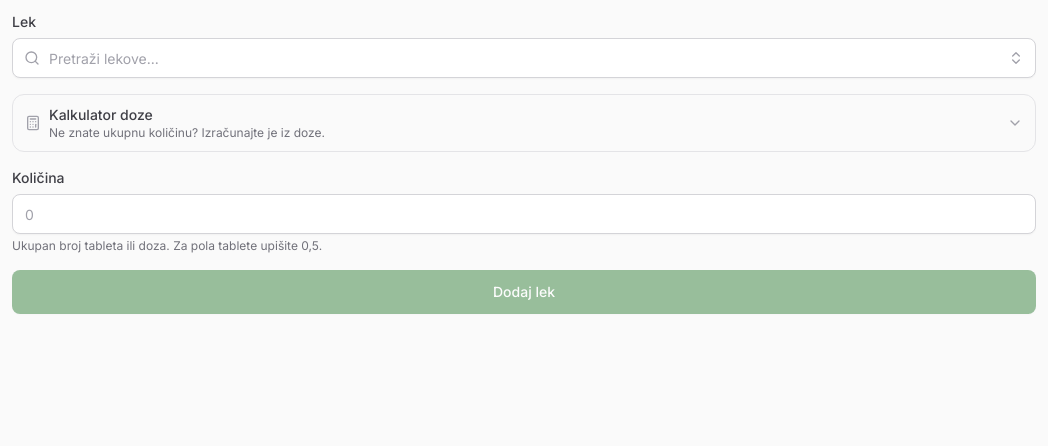
it: ConsumeItemForm › zapremina: 300 ml od boce od 1000 ml naplaćuje 0,3 komada
Later steps or results of the test are not shown.
Step 1. Click the dropdown labelled "Lek" → coordinates (524, 58), box [12, 38, 1036, 78]
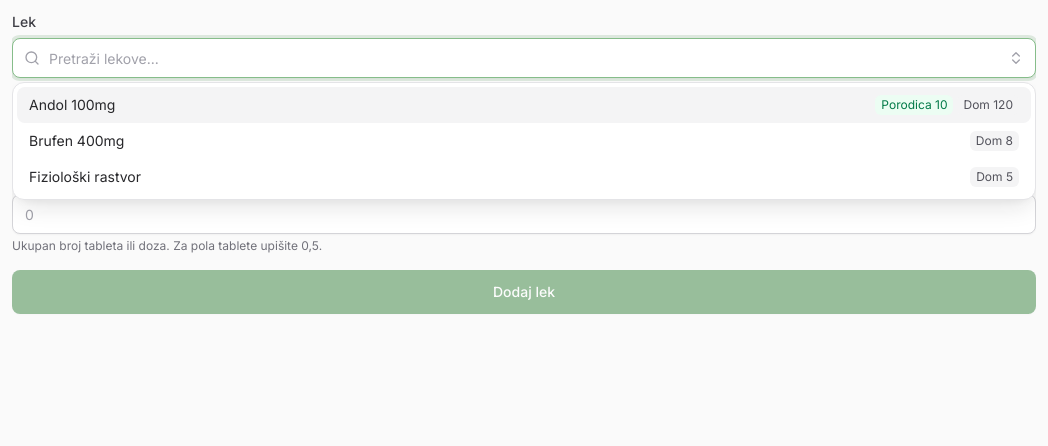
Step 2. Click the option "Fiziološki rastvor Dom 5" → coordinates (85, 176), box [29, 167, 1019, 187]
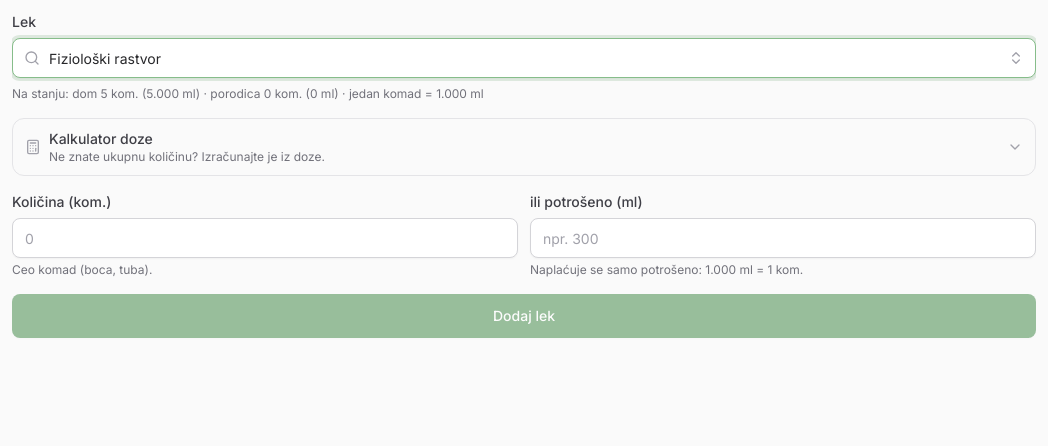
Step 3. Type "300" into the field labelled "ili potrošeno (ml)" → coordinates (783, 238), box [530, 218, 1036, 258]
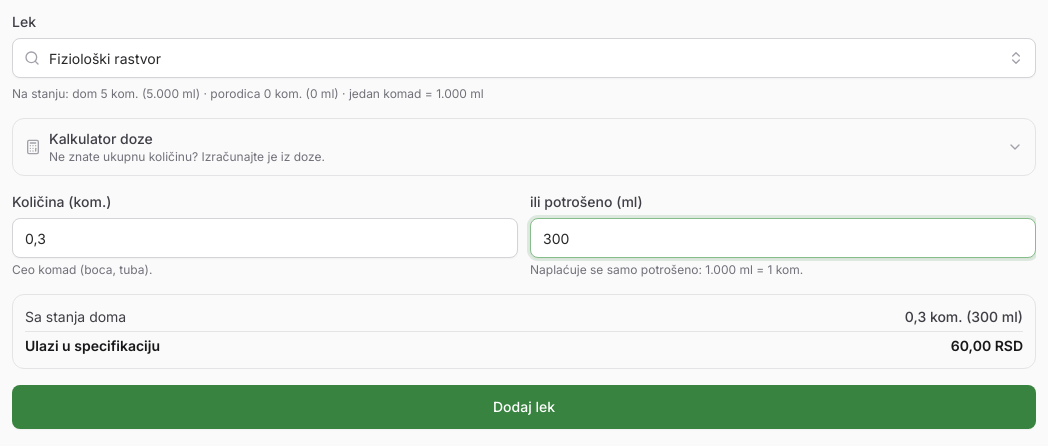
Expected: the field labelled "Količina (kom.)" holds "0,3", [12, 218, 518, 258]
